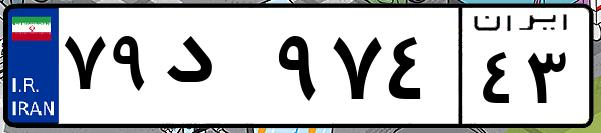3: (525, 38, 570, 115)
4: (385, 28, 445, 110), (475, 38, 525, 113)
7: (330, 28, 385, 110), (57, 26, 110, 100)
9: (270, 28, 330, 110), (110, 28, 158, 98)
د: (158, 20, 270, 120)
